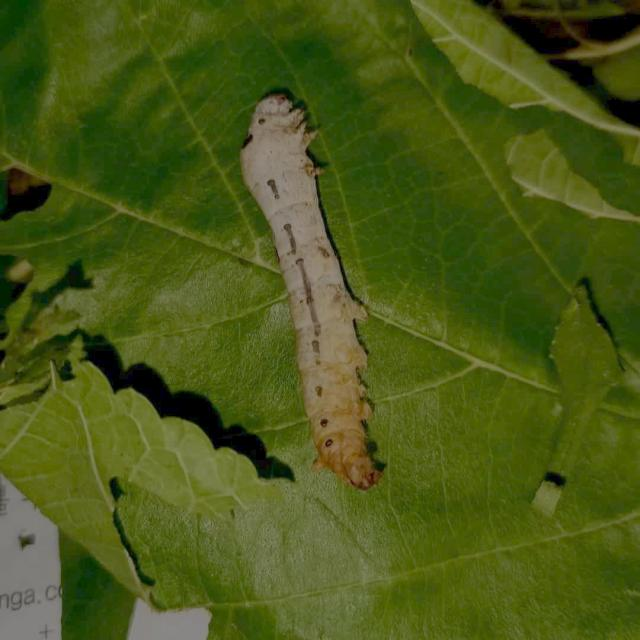Grasserie: (181, 45, 450, 496)
